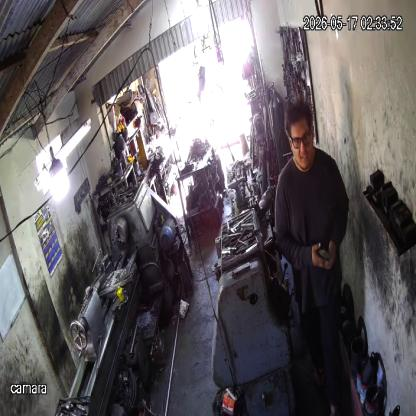lentes: (288, 131, 311, 148)
